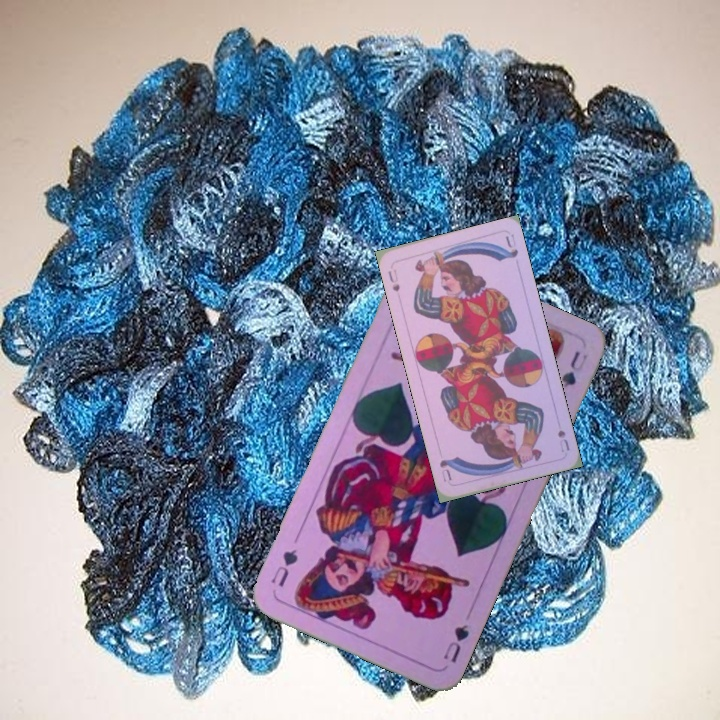GU: (439, 620, 472, 666)
SU: (554, 426, 572, 455), (384, 265, 402, 294)
